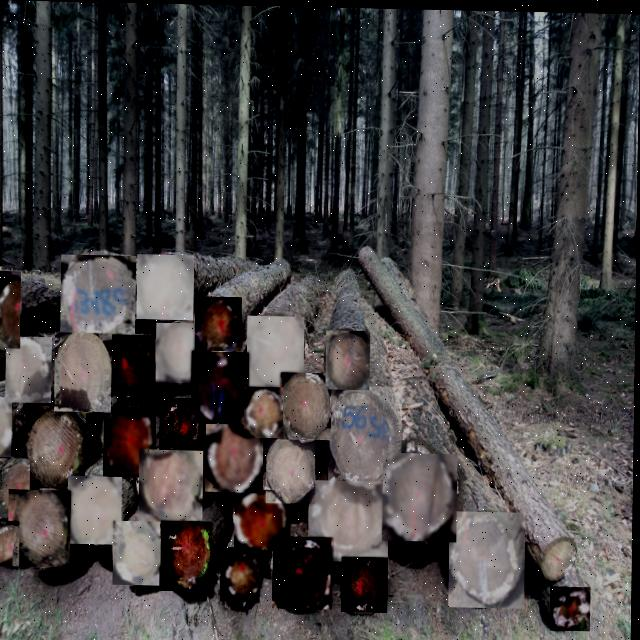wood-log: (450, 509, 527, 606), (330, 384, 404, 484), (384, 451, 459, 540), (310, 479, 390, 561), (61, 254, 137, 339), (9, 489, 72, 567), (28, 406, 87, 489), (140, 449, 205, 524), (55, 332, 113, 412), (274, 535, 335, 608), (192, 350, 250, 422), (248, 314, 305, 387), (206, 423, 265, 492), (137, 253, 195, 319), (69, 475, 124, 544), (105, 406, 157, 477), (162, 520, 214, 591), (281, 371, 333, 439), (236, 488, 292, 549), (267, 438, 317, 503), (6, 336, 53, 403), (114, 520, 162, 585), (107, 334, 156, 396), (157, 322, 204, 383), (327, 329, 371, 389), (343, 555, 390, 611), (196, 295, 243, 350), (161, 397, 203, 456), (222, 546, 262, 601), (245, 385, 285, 437), (0, 458, 32, 517), (552, 584, 592, 629), (540, 533, 578, 578), (0, 271, 22, 348), (0, 521, 21, 566), (0, 397, 13, 457)
